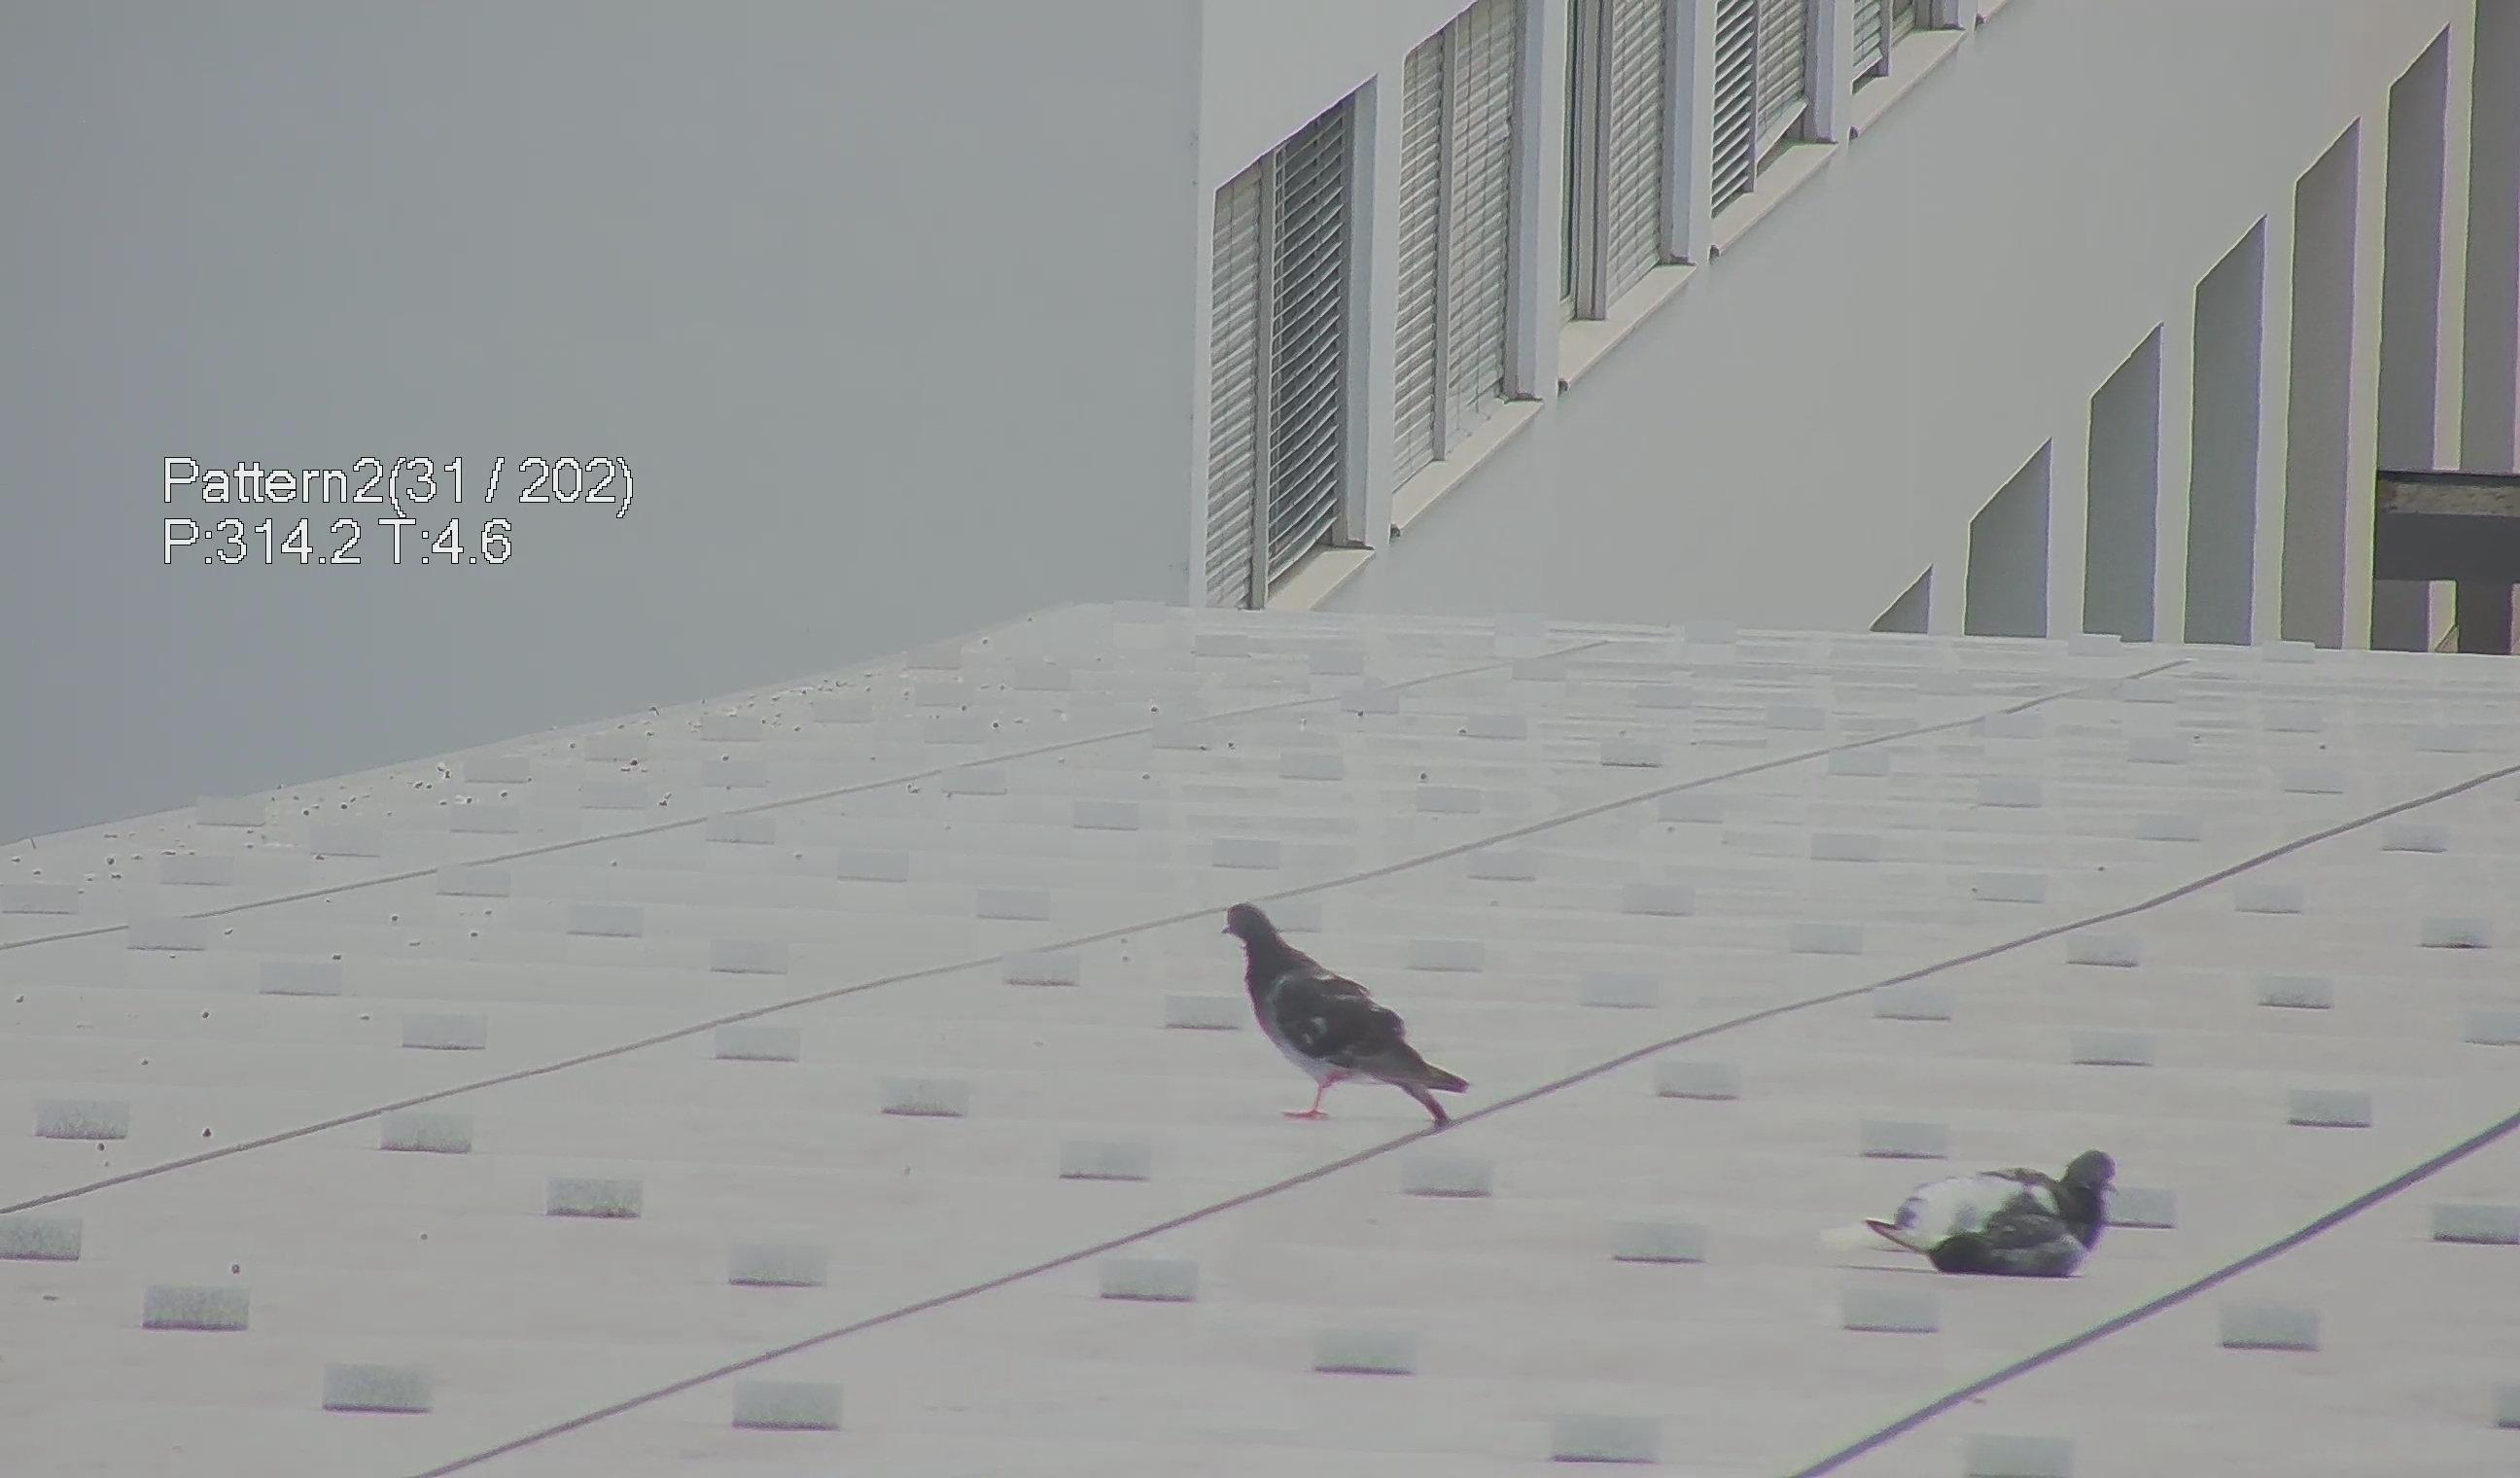Pigeon: (1210, 892, 1474, 1142), (1875, 1144, 2161, 1283)
